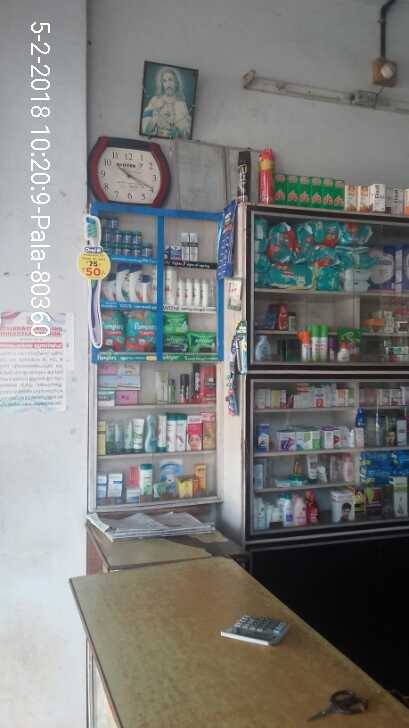vicks: (100, 217, 153, 258)
